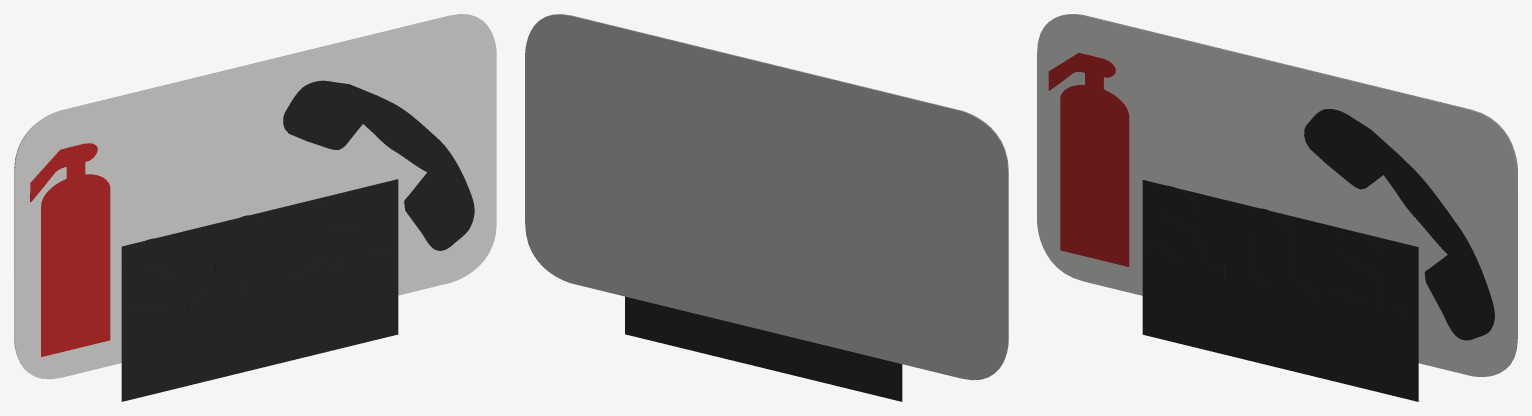
3 views of the same model, side by side, from view 1: azimuth 30°, elevation 25°; view 2: azimuth 150°, elevation 25°; view 3: azimuth 330°, elevation 25° (orthographic).
Visible parts, largest first — view 1: M9f_p00, M9f_p02, M9f_p01, M9f_p09, M9f_p05, M9f_p07, M9f_p03, M9f_p12, M9f_p10, M9f_dos, M9f_p11; view 2: M9f_dos, M9f_p02, M9f_p00; view 3: M9f_p00, M9f_p02, M9f_p01, M9f_p09, M9f_p05, M9f_p07, M9f_p03, M9f_p12, M9f_dos, M9f_p10, M9f_p11.
Part boxes in pixels (left/top/right/bottom): M9f_p00: left=14, top=14, right=496, bottom=379; M9f_p02: left=121, top=179, right=398, bottom=401; M9f_p01: left=283, top=80, right=474, bottom=250; M9f_p09: left=41, top=189, right=110, bottom=356; M9f_p05: left=215, top=215, right=274, bottom=304; M9f_p07: left=308, top=193, right=364, bottom=281; M9f_p03: left=124, top=238, right=180, bottom=326; M9f_p12: left=30, top=143, right=97, bottom=202; M9f_p10: left=41, top=174, right=110, bottom=205; M9f_dos: left=14, top=14, right=475, bottom=371; M9f_p11: left=66, top=143, right=85, bottom=199; M9f_dos: left=525, top=14, right=1008, bottom=380; M9f_p02: left=625, top=296, right=902, bottom=401; M9f_p00: left=546, top=14, right=1008, bottom=368; M9f_p00: left=1037, top=14, right=1517, bottom=376; M9f_p02: left=1142, top=180, right=1418, bottom=401; M9f_p01: left=1304, top=109, right=1494, bottom=340; M9f_p09: left=1060, top=100, right=1129, bottom=266; M9f_p05: left=1235, top=208, right=1293, bottom=297; M9f_p07: left=1327, top=230, right=1383, bottom=319; M9f_p03: left=1145, top=185, right=1201, bottom=274; M9f_p12: left=1048, top=53, right=1115, bottom=90; M9f_dos: left=1056, top=14, right=1517, bottom=368; M9f_p10: left=1060, top=84, right=1129, bottom=116; M9f_p11: left=1085, top=55, right=1103, bottom=110.
Size of the model in its own units: 0.7 by 0.4239 by 0.0067.
